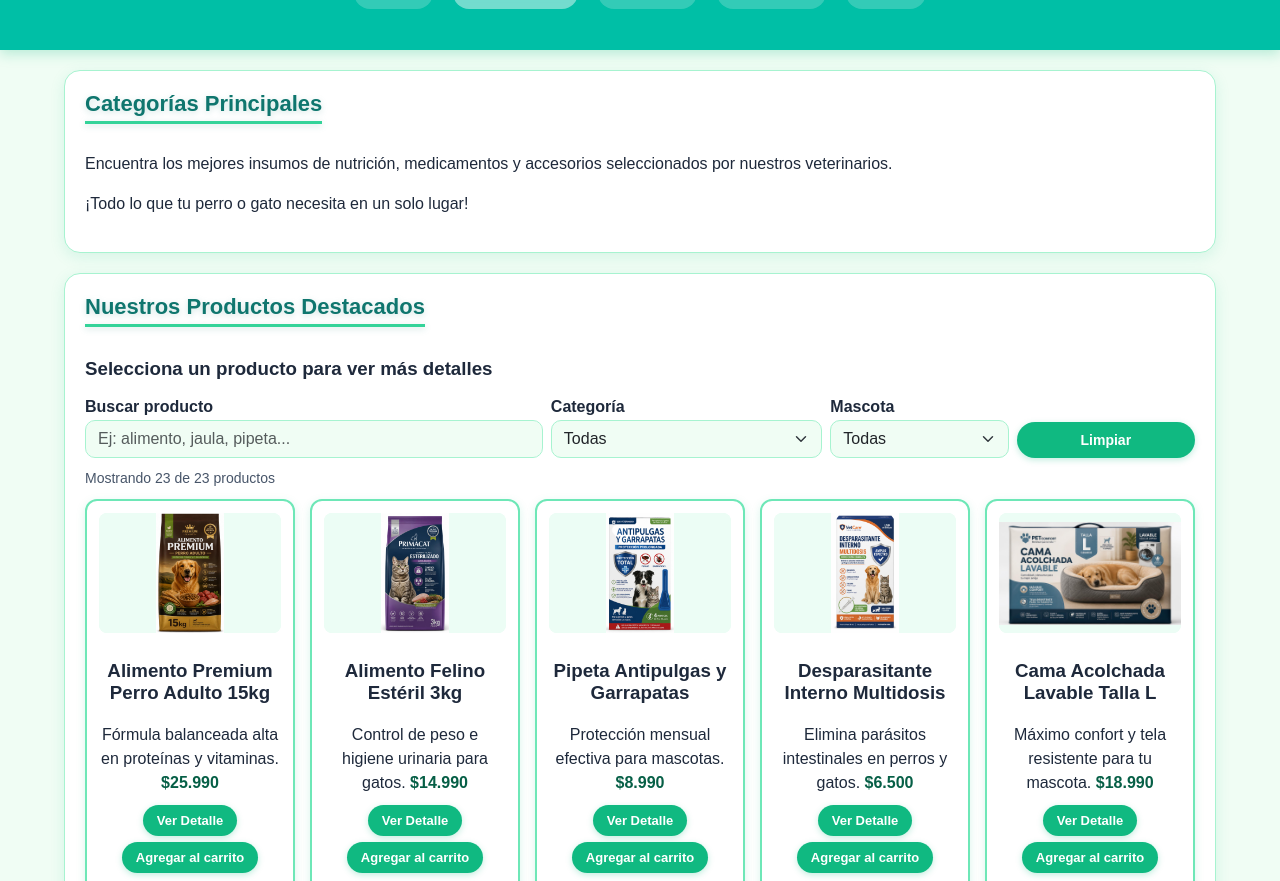
Test case: App (integración de estado y rutas) › el filtro de mascota reduce la cantidad de productos mostrados
(page scrolled)
expect the text "Mostrando 23 de 23 productos" is shown: met, box top-left (85, 470), bottom-right (275, 486)
Select "Pájaro" in the dropdown labelled "Mascota" at (919, 439), box top-left (830, 420), bottom-right (1009, 458)
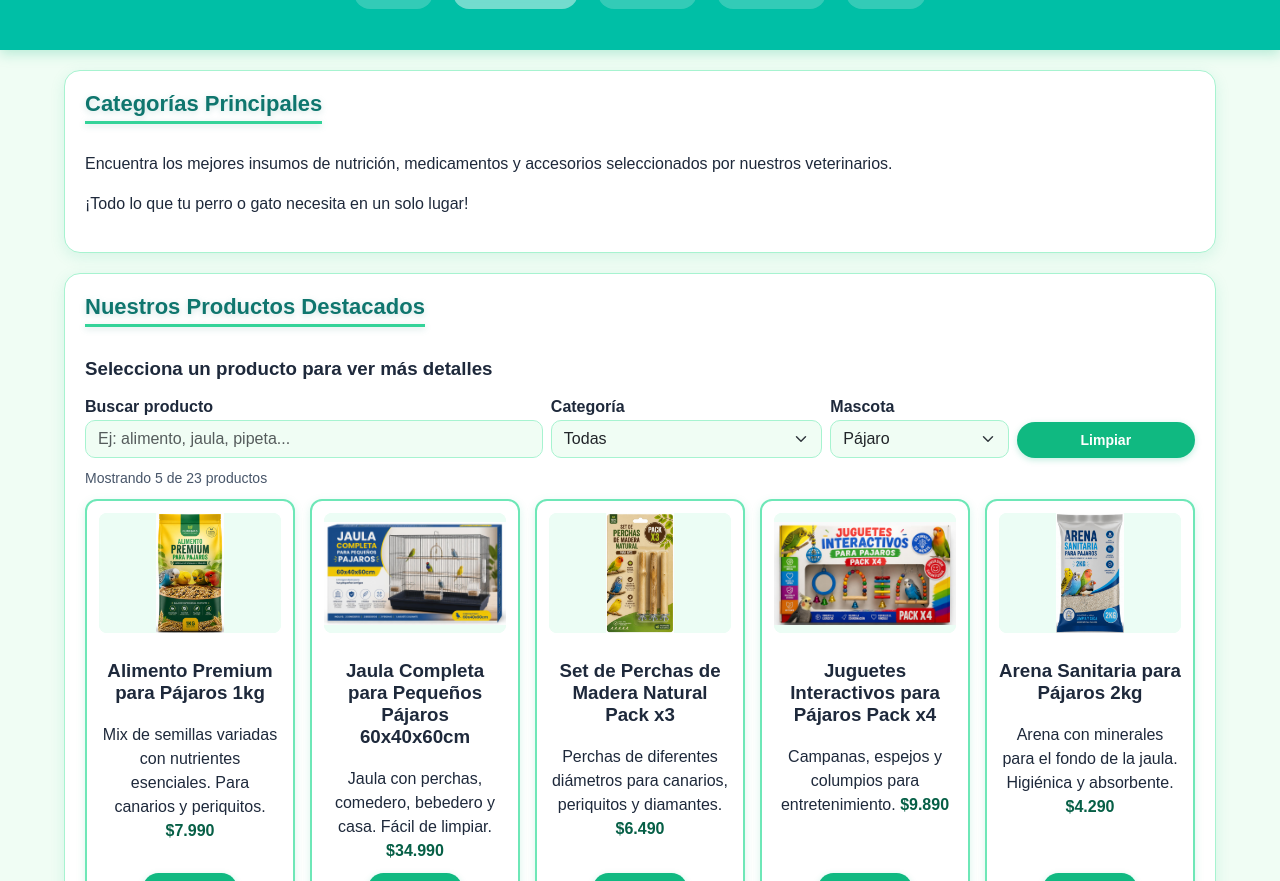
expect the text "Mostrando 5 de 23 productos" is shown: met, box top-left (85, 470), bottom-right (267, 486)
